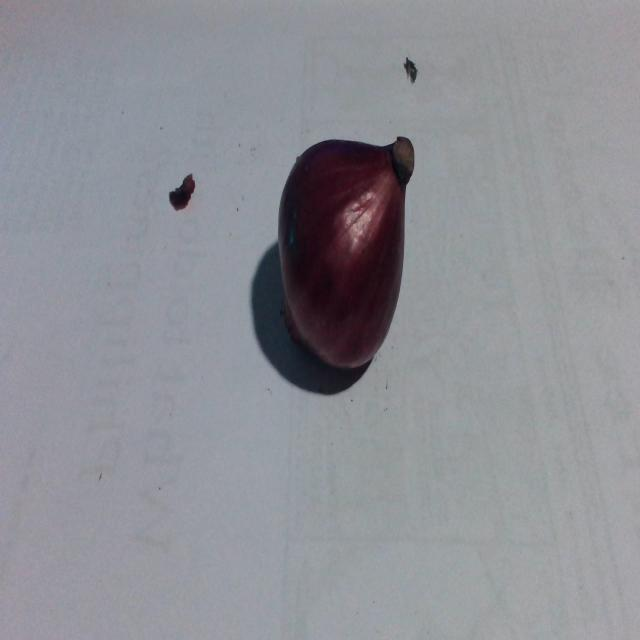onion: (278, 138, 409, 372)
